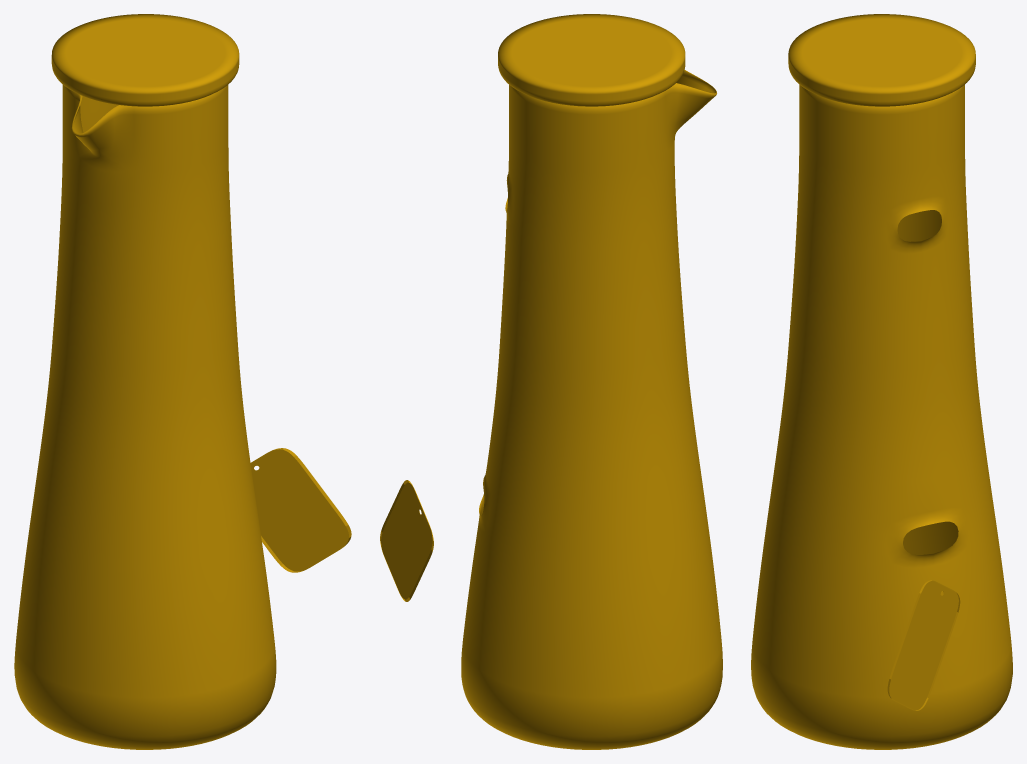
The picture shows the model from 3 angles, left to right: view 1: azimuth 30°, elevation 25°; view 2: azimuth 150°, elevation 25°; view 3: azimuth 270°, elevation 25°; orthographic projection.
Parts seen in each view (by area): view 1: body, cap, label; view 2: body, cap, label; view 3: body, cap, label.
Part boxes in pixels (left/top/right/bottom): body: left=14, top=85, right=276, bottom=749; cap: left=51, top=14, right=239, bottom=106; label: left=250, top=448, right=351, bottom=572; body: left=461, top=70, right=722, bottom=749; cap: left=498, top=14, right=685, bottom=106; label: left=380, top=480, right=433, bottom=601; body: left=751, top=85, right=1012, bottom=749; cap: left=788, top=14, right=975, bottom=106; label: left=887, top=580, right=960, bottom=710.
Size of the model in its own units: 0.1348 by 0.2589 by 0.0948.
